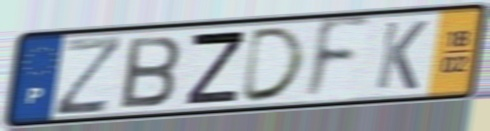B: (118, 33, 184, 111)
D: (237, 24, 309, 105)
F: (301, 13, 374, 106)
K: (373, 19, 431, 92)
Z: (52, 33, 127, 118), (183, 29, 248, 107)
